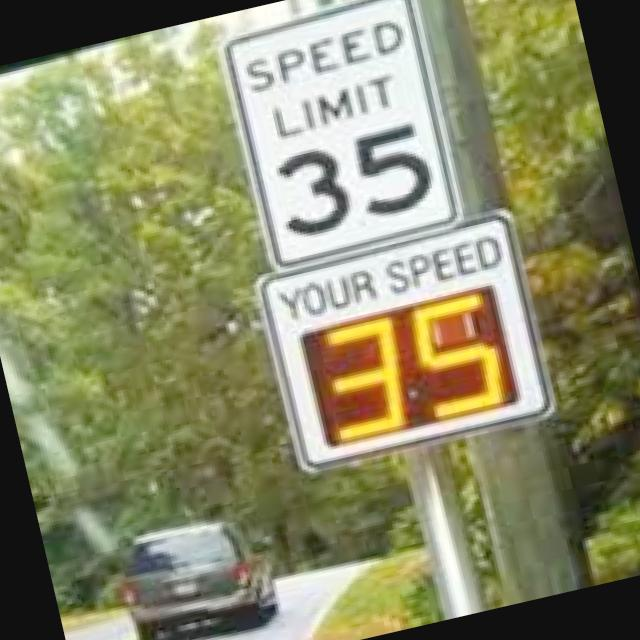Speed Limit Signs: (210, 0, 472, 275)
